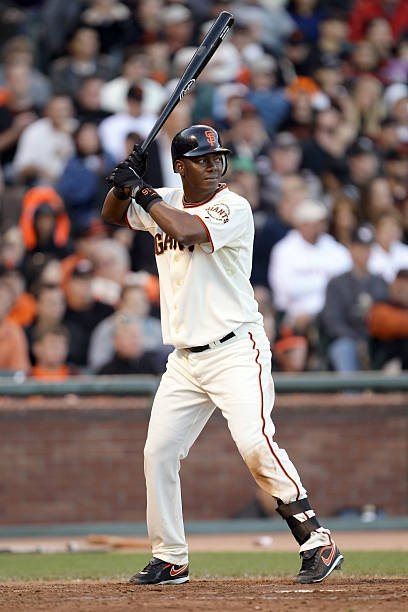bita: (121, 1, 238, 161)
